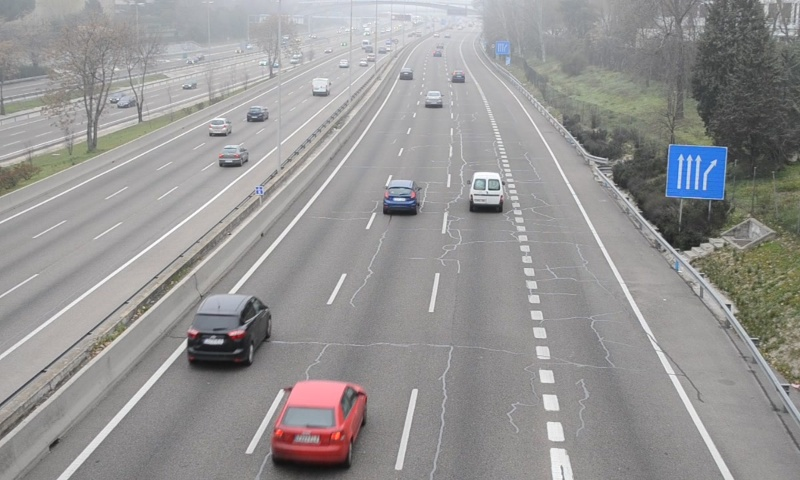car: (270, 382, 364, 463), (188, 294, 270, 363), (383, 179, 420, 213), (424, 90, 443, 108), (398, 66, 414, 81), (450, 69, 465, 84)
van: (470, 172, 503, 210)
